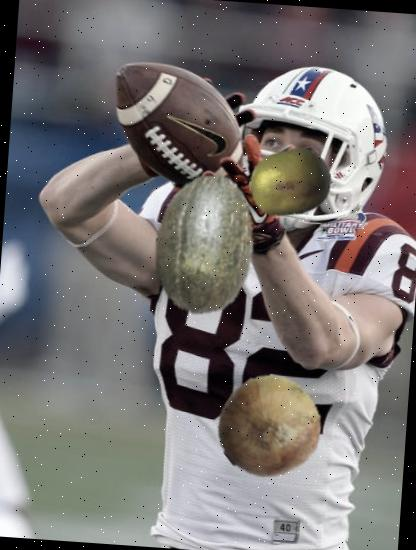Melon: (124, 166, 279, 322)
Onion: (213, 370, 325, 482)
Pomelo: (245, 138, 334, 227)
